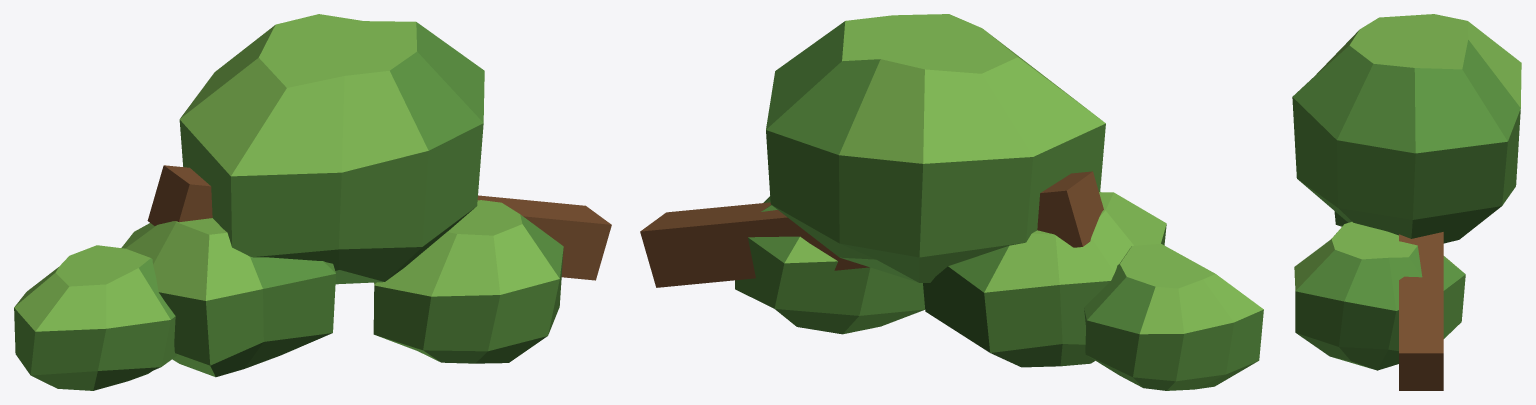
The model's file is fg-branch-right.glb.
3 views of the same model, side by side, from view 1: azimuth 30°, elevation 25°; view 2: azimuth 150°, elevation 25°; view 3: azimuth 270°, elevation 25° (orthographic). The views are drawn at different scales.
Parts seen in each view (by area): view 1: Leaves.001, Leaves.002, Leaves, Leaves.003, Bough; view 2: Leaves.001, Leaves, Leaves.003, Bough, Leaves.002; view 3: Leaves.001, Leaves.002, Bough.
Part boxes in pixels (x1,y1,x2,y2): Leaves.001: (179,14,484,284); Leaves.002: (373,200,563,363); Leaves: (121,218,335,377); Leaves.003: (14,245,177,390); Bough: (147,165,611,280); Leaves.001: (766,14,1105,282); Leaves: (923,192,1166,367); Leaves.003: (1084,243,1263,390); Bough: (640,171,1103,287); Leaves.002: (735,196,925,334); Leaves.001: (1292,14,1521,243); Leaves.002: (1294,222,1465,370); Bough: (1399,232,1443,390).
Size of the model in its own units: 1.68 by 0.8758 by 0.6674.
